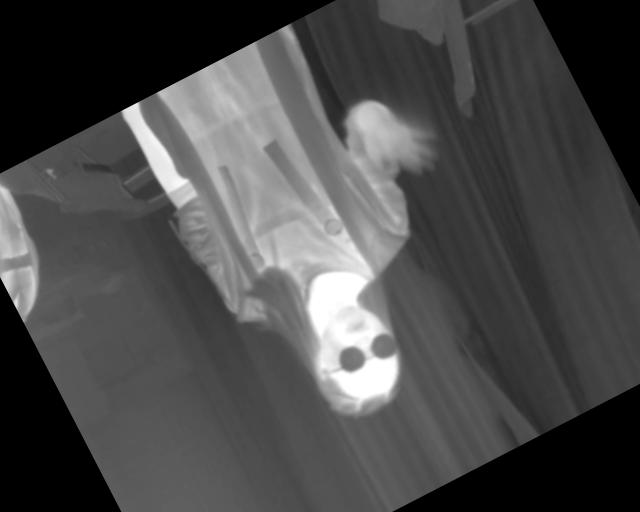face: (292, 290, 420, 428)
